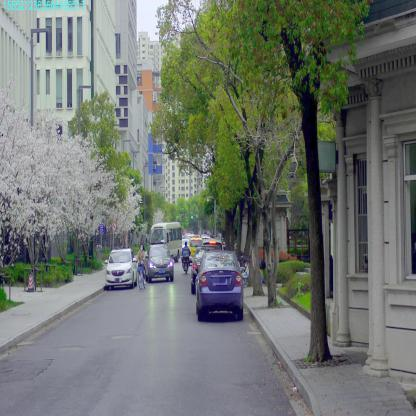traffic-light: (191, 215, 193, 219)
